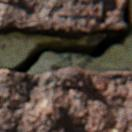brick: (0, 67, 131, 131), (0, 0, 125, 40)
crack: (0, 0, 129, 74)
